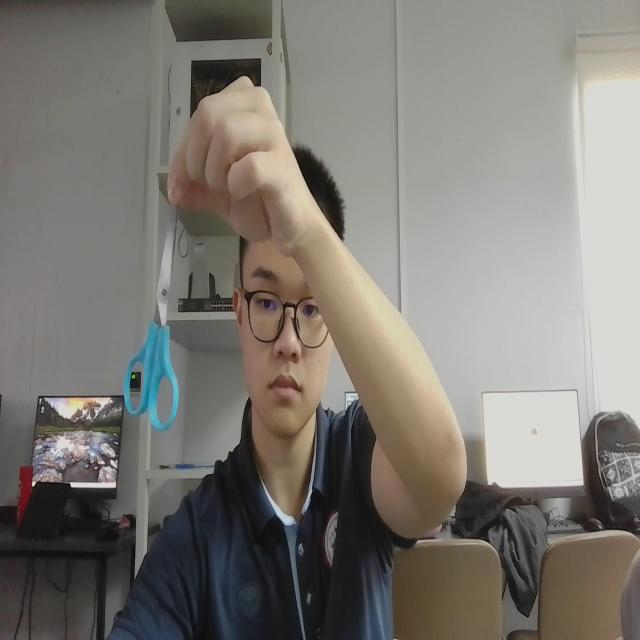scissors: (119, 190, 185, 440)
